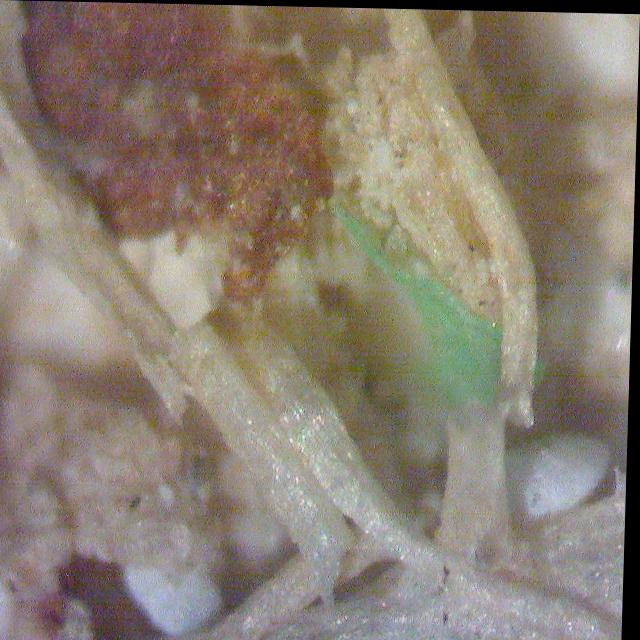microplastic: (288, 201, 534, 419)
